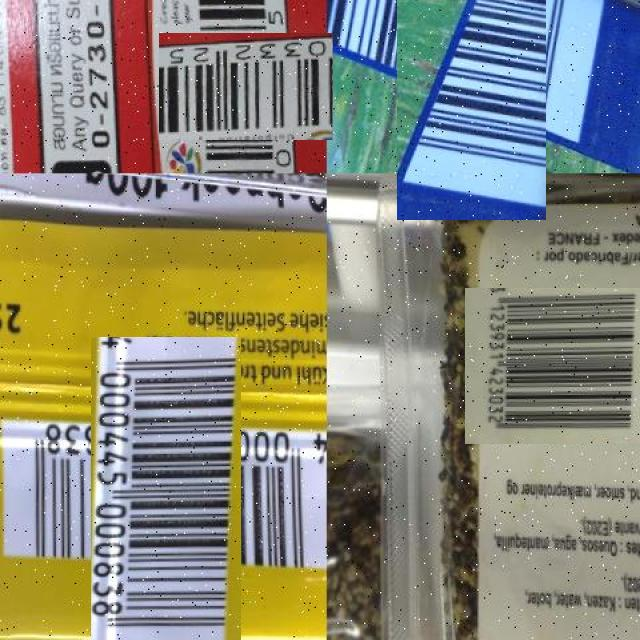Barcode: (47, 380, 284, 616), (362, 0, 582, 185), (474, 279, 640, 454), (176, 16, 316, 158)
